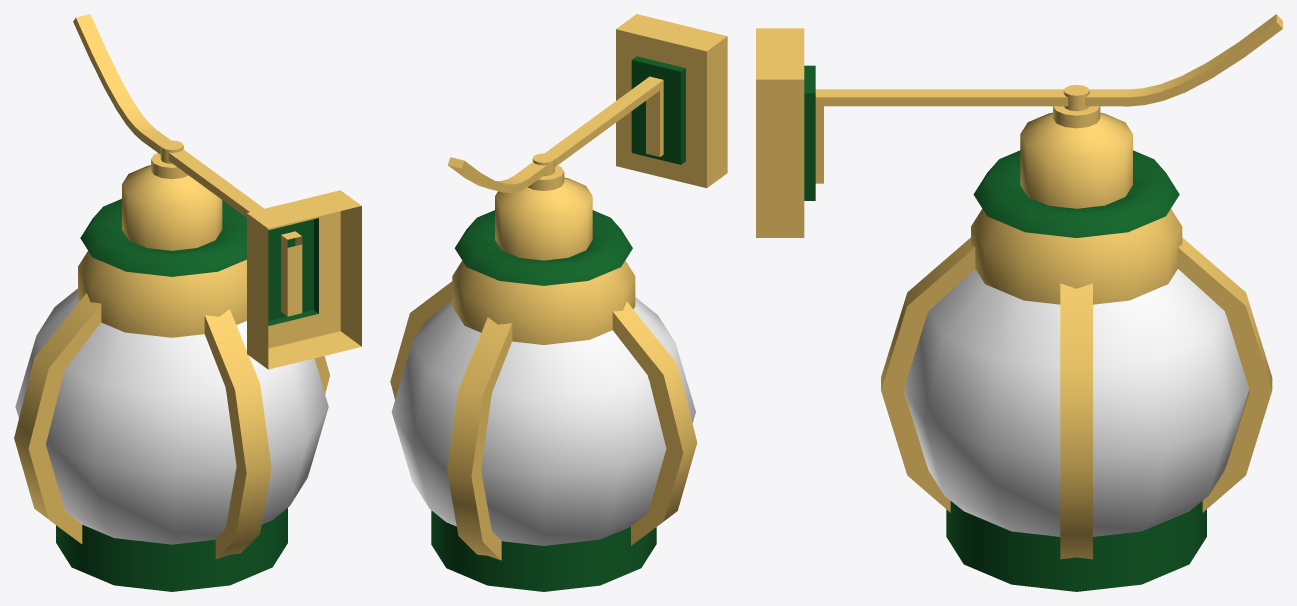
File: LanternText.fbx
3 renders of one model, left to right at view 1: azimuth 30°, elevation 25°; view 2: azimuth 150°, elevation 25°; view 3: azimuth 270°, elevation 25°, orthographic. The views are drawn at different scales.
Parts seen in each view (by area): view 1: LanternWithHandle; view 2: LanternWithHandle; view 3: LanternWithHandle.
Part boxes in pixels (bbox=[...]): LanternWithHandle: bbox=[14, 14, 361, 591]; LanternWithHandle: bbox=[390, 14, 727, 591]; LanternWithHandle: bbox=[756, 14, 1282, 591].
Size of the model in its own units: 1488 by 2178 by 2004.
